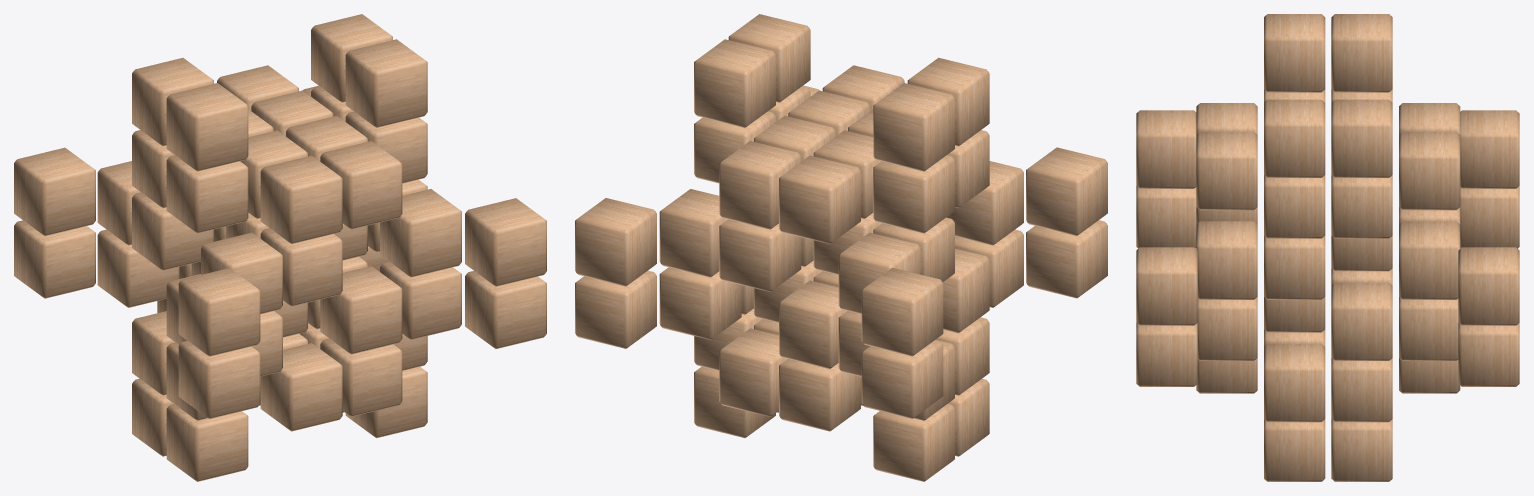
File: level_68.fbx
3 views of the same model, side by side, from view 1: azimuth 30°, elevation 25°; view 2: azimuth 150°, elevation 25°; view 3: azimuth 270°, elevation 25° (orthographic). The views are drawn at different scales.
Parts seen in each view (by area): view 1: Cube.007, Cube.001, Cube.073, Cube.075, Cube.070, Cube.068, Cube.025, Cube.012, Cube.055, Cube.041, Cube.005, Cube.067 (+31 smaller); view 2: Cube.068, Cube.001, Cube.076, Cube.074, Cube.050, Cube.072, Cube.067, Cube.071, Cube.041, Cube.044, Cube.062, Cube.078 (+28 smaller); view 3: Cube.030, Cube.062, Cube.052, Cube.070, Cube.072, Cube.074, Cube.075, Cube.073, Cube.037, Cube.076, Cube.055, Cube.001 (+26 smaller).
Part boxes in pixels (bbox=[...]): Cube.007: bbox=[260, 155, 342, 243]; Cube.001: bbox=[178, 268, 260, 356]; Cube.073: bbox=[166, 83, 248, 171]; Cube.075: bbox=[345, 39, 427, 127]; Cube.070: bbox=[465, 198, 546, 286]; Cube.068: bbox=[14, 147, 95, 235]; Cube.025: bbox=[320, 266, 402, 354]; Cube.012: bbox=[260, 343, 342, 431]; Cube.055: bbox=[380, 189, 461, 277]; Cube.041: bbox=[178, 340, 260, 418]; Cube.005: bbox=[166, 155, 248, 233]; Cube.067: bbox=[14, 220, 95, 298]; Cube.068: bbox=[861, 268, 943, 356]; Cube.001: bbox=[1026, 147, 1107, 235]; Cube.076: bbox=[694, 39, 775, 127]; Cube.074: bbox=[873, 83, 954, 171]; Cube.050: bbox=[779, 155, 860, 243]; Cube.072: bbox=[575, 198, 656, 286]; Cube.067: bbox=[861, 340, 943, 418]; Cube.071: bbox=[575, 270, 656, 348]; Cube.041: bbox=[1026, 220, 1107, 298]; Cube.044: bbox=[873, 155, 954, 233]; Cube.062: bbox=[719, 141, 801, 229]; Cube.078: bbox=[873, 404, 954, 481]; Cube.030: bbox=[1264, 343, 1325, 422]; Cube.062: bbox=[1399, 131, 1460, 210]; Cube.052: bbox=[1196, 131, 1257, 210]; Cube.070: bbox=[1136, 247, 1197, 325]; Cube.072: bbox=[1458, 247, 1519, 325]; Cube.074: bbox=[1331, 14, 1392, 92]; Cube.075: bbox=[1264, 99, 1325, 177]; Cube.073: bbox=[1264, 14, 1325, 92]; Cube.037: bbox=[1331, 282, 1392, 360]; Cube.076: bbox=[1331, 99, 1392, 177]; Cube.055: bbox=[1196, 221, 1257, 299]; Cube.001: bbox=[1136, 110, 1196, 188].
Bounding box in the file's own units: 12.56 × 12.93 × 12.5.
